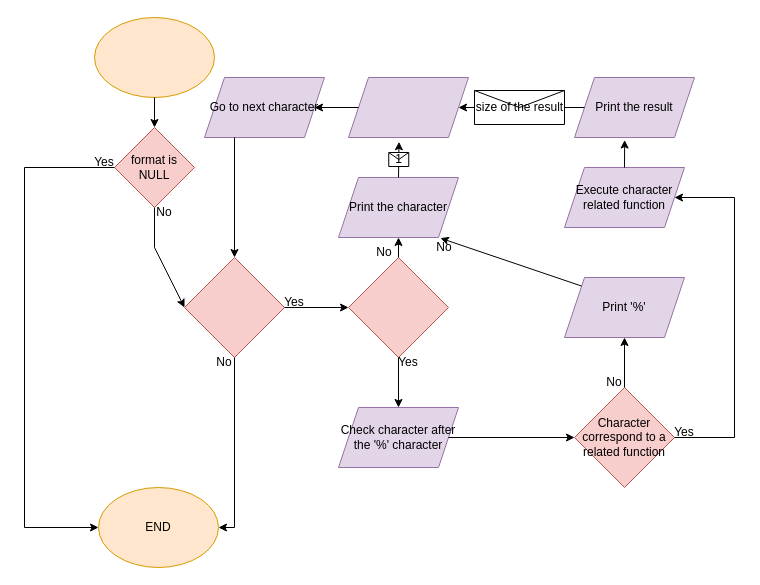
Some shapes in this 760 by 585 pixel diagram are drawn without their labels. Here are the shapes that lost their labels. From the top down, the centre of each, then its label:
At (x=154, y=57): "START".
At (x=408, y=107): "Increment printed characters count".
At (x=234, y=307): "character is not equals to NULL byte".
At (x=398, y=307): "character is equal to '%'".
